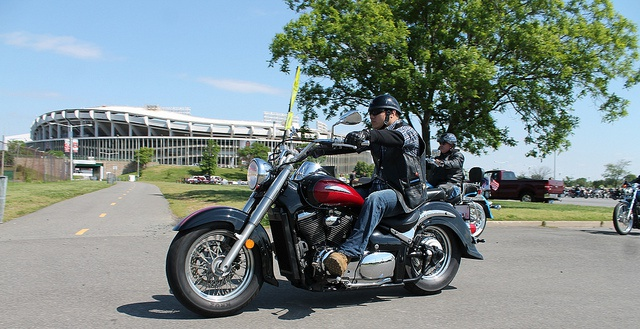non-vehicle: (165, 110, 485, 315), (424, 166, 500, 238), (613, 180, 639, 234)
